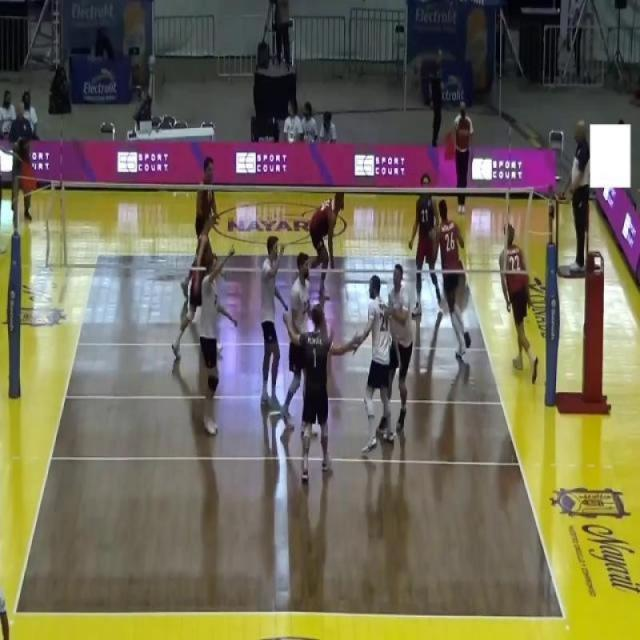volleyball: (148, 55, 156, 68)
